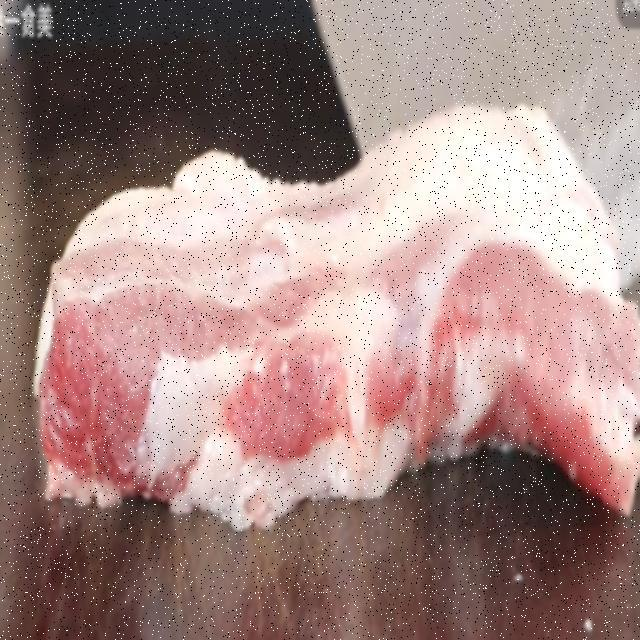pork: (19, 81, 640, 640)
